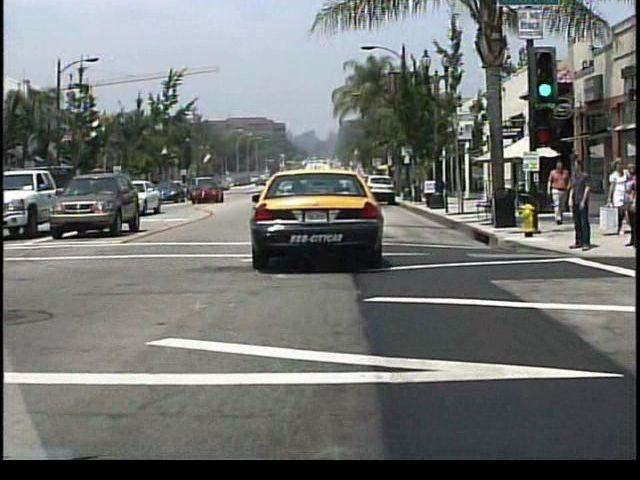person: (571, 156, 595, 253), (550, 161, 572, 224), (609, 155, 631, 211)
